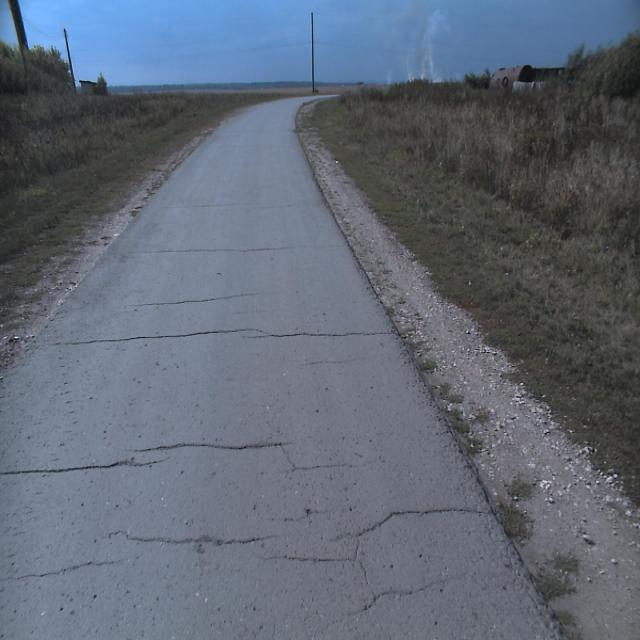road: (0, 94, 569, 639)
